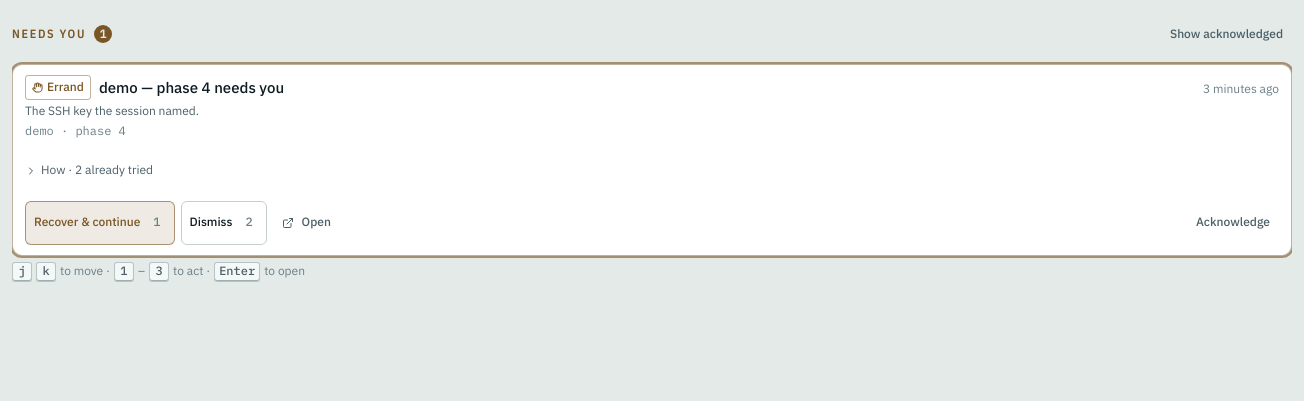
a row says what the server said › leads with the ask, and folds the how and what was tried behind one control
This screenshot has width=1304, height=401.
Expected: the link "demo — phase 4 needs you" is shown, 99,78 -> 284,97
Expected: the text "The SSH key the session named." is shown, 25,103 -> 199,118
Click the button "How · 2 already tried" at (89, 171), box 25,149 -> 153,193
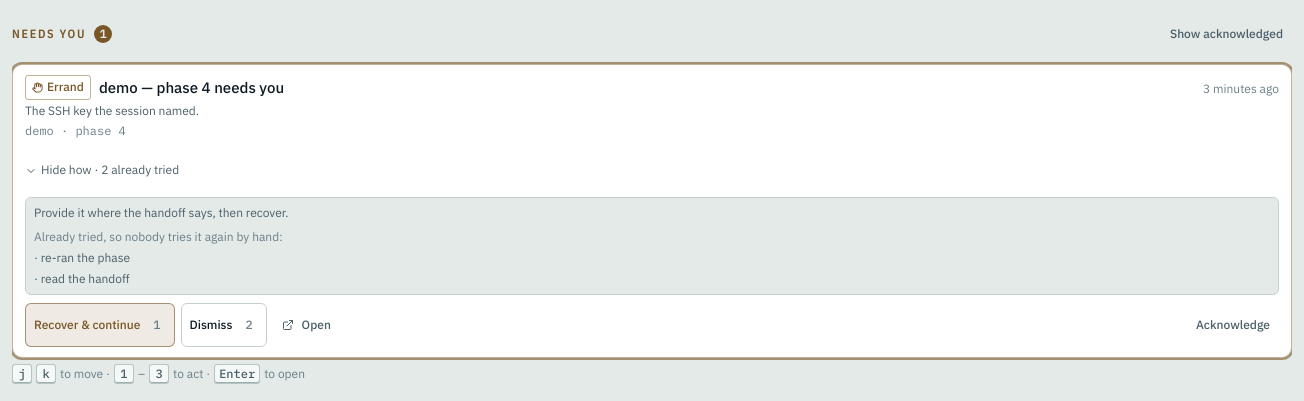
Result: the text "Provide it where the handoff says, then recover." is shown at 34,205 -> 288,220
Result: the list item "· re-ran the phase" is shown at 34,250 -> 130,265
